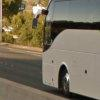Bus: (33, 2, 100, 99)
